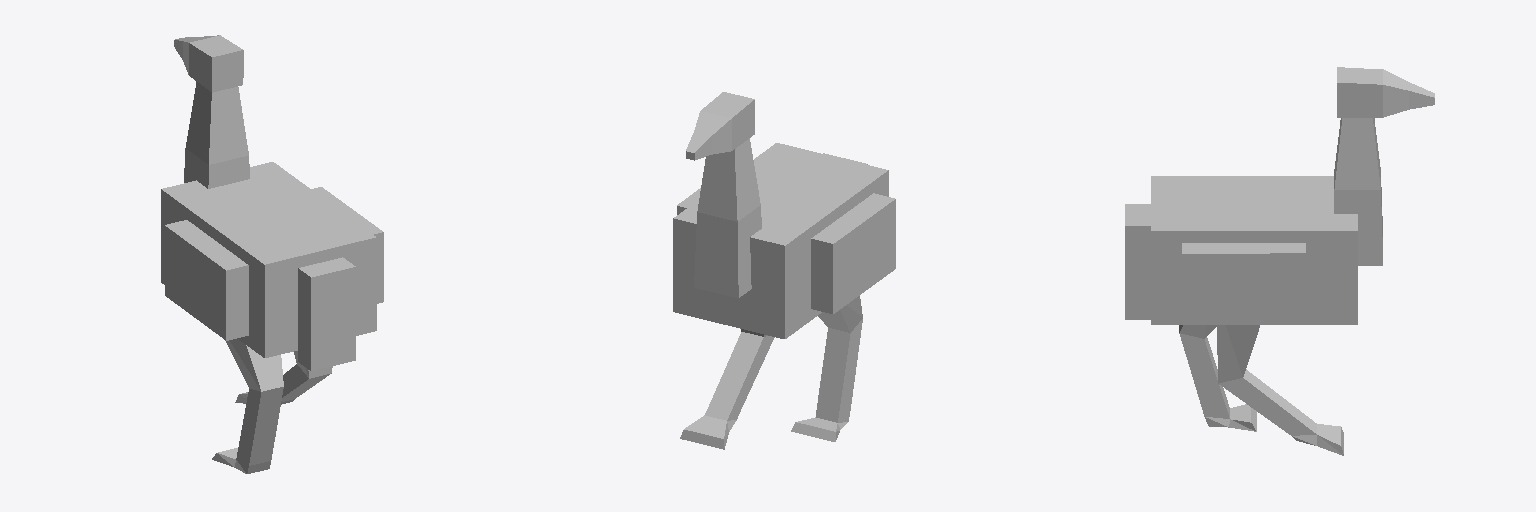
The model's file is Ostrich_000228.obj.
3 renders of one model, left to right at view 1: azimuth 30°, elevation 25°; view 2: azimuth 150°, elevation 25°; view 3: azimuth 270°, elevation 25°, orthographic.
Visible parts, largest first — view 1: Cube_Cube.001; view 2: Cube_Cube.001; view 3: Cube_Cube.001.
Part boxes in pixels (left/top/right/bottom): Cube_Cube.001: left=161, top=35, right=383, bottom=473; Cube_Cube.001: left=673, top=92, right=895, bottom=449; Cube_Cube.001: left=1125, top=67, right=1434, bottom=455.
Bounding box in the file's own units: 0.7037 × 1.55 × 1.2.